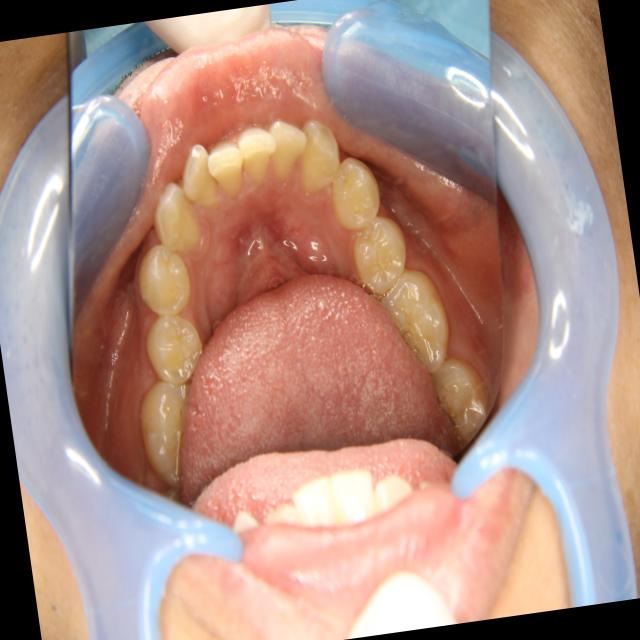tooth: (366, 250, 466, 388), (126, 366, 211, 496), (322, 136, 397, 250), (346, 198, 422, 310), (426, 346, 502, 454), (255, 90, 324, 206), (139, 301, 221, 398), (140, 167, 216, 270), (290, 104, 357, 215), (171, 134, 240, 232), (125, 240, 202, 325), (225, 107, 287, 202), (193, 128, 259, 213)
